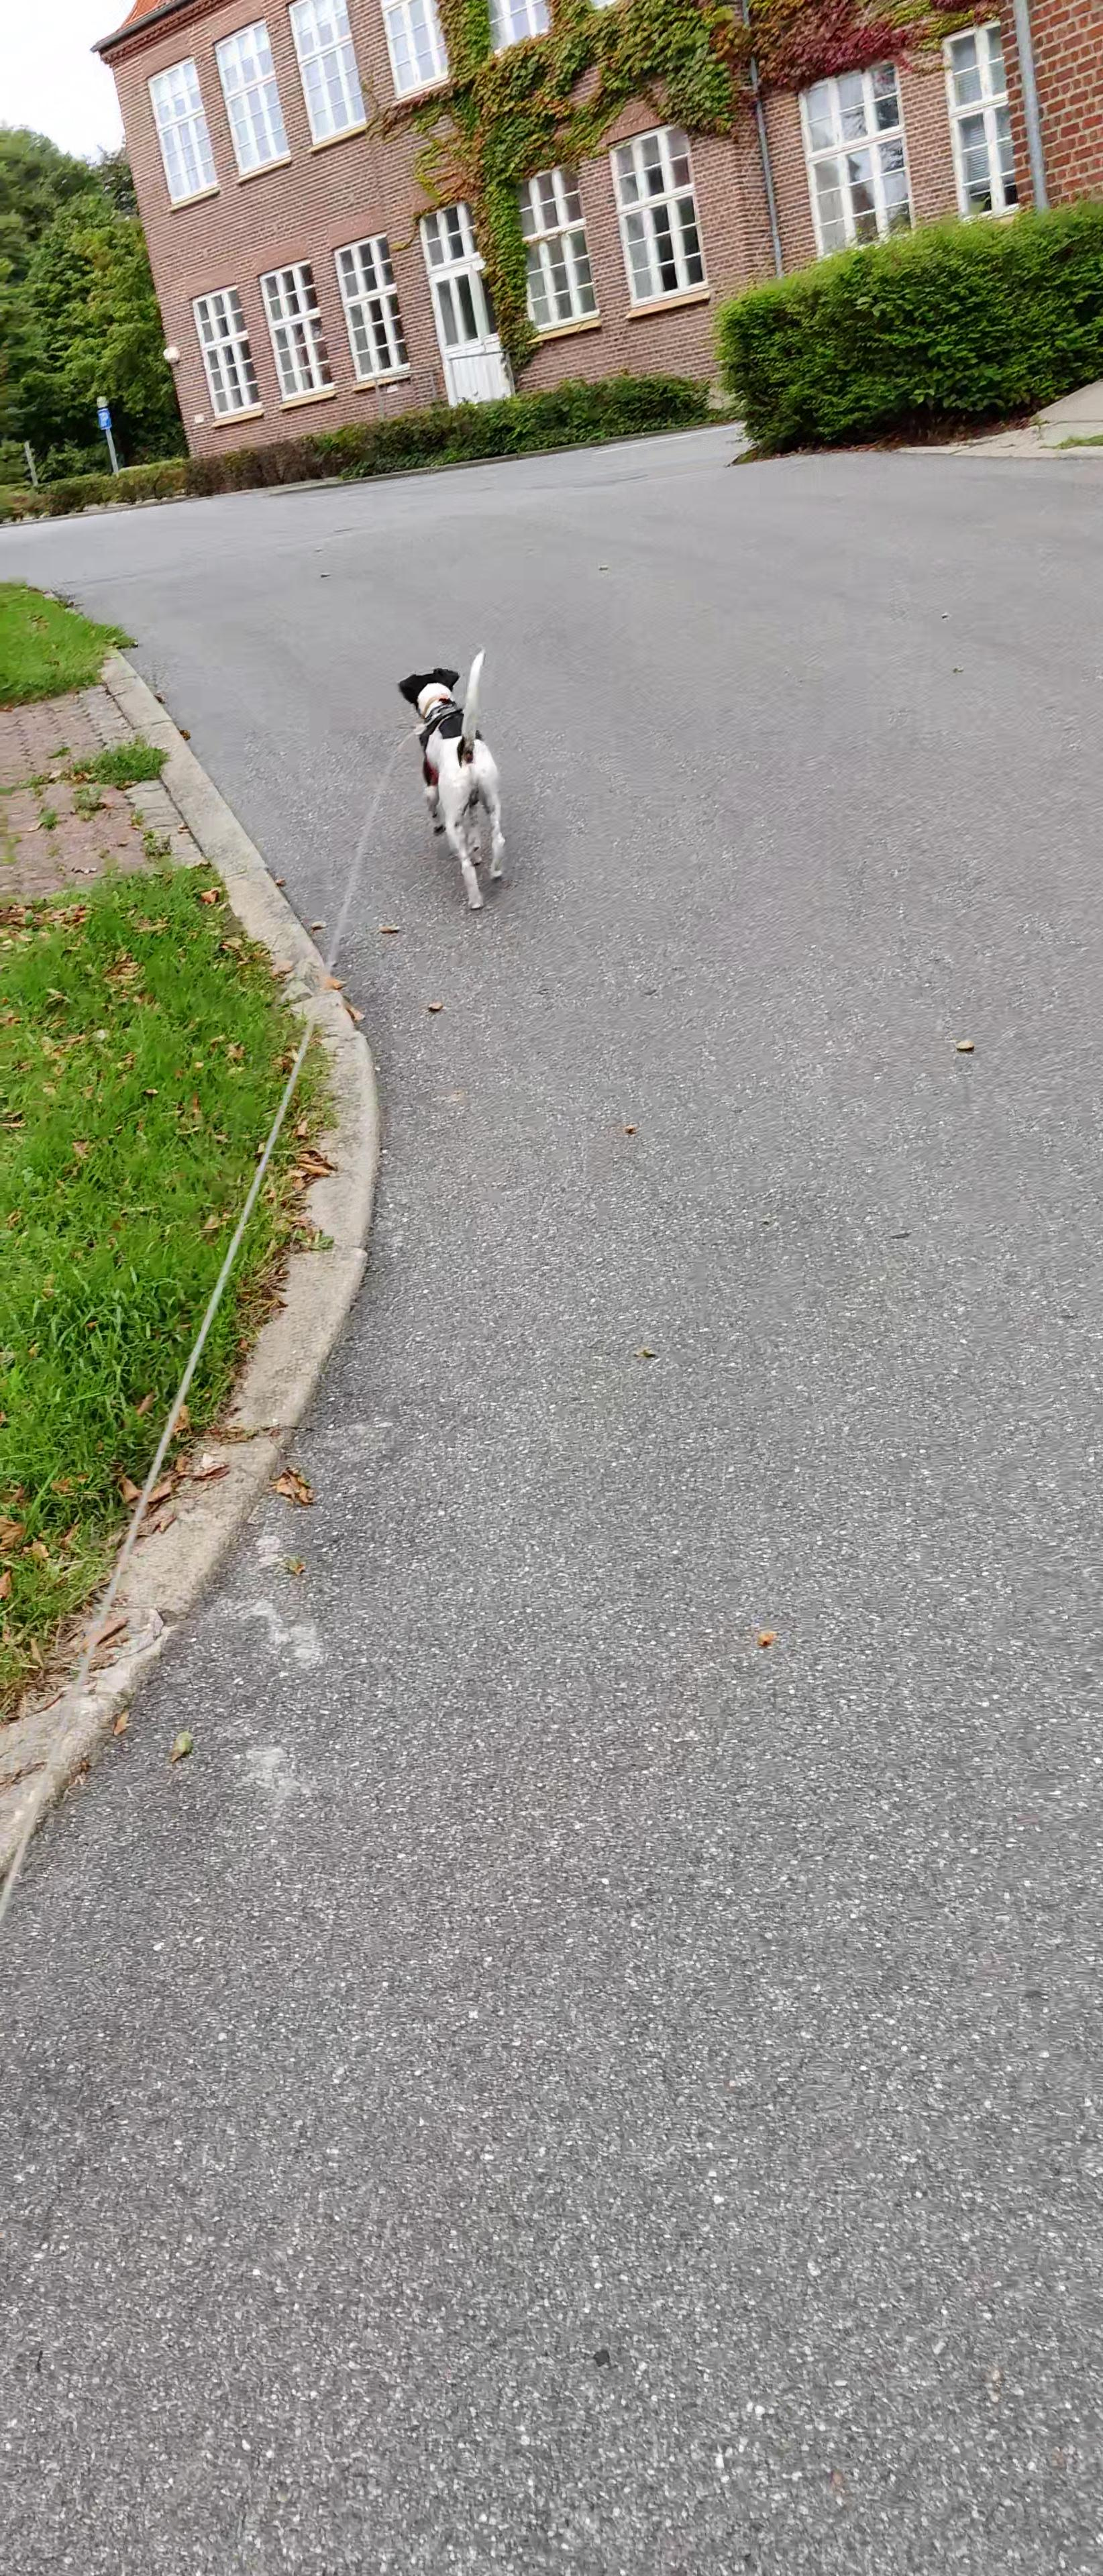Dog: (395, 644, 511, 912)
